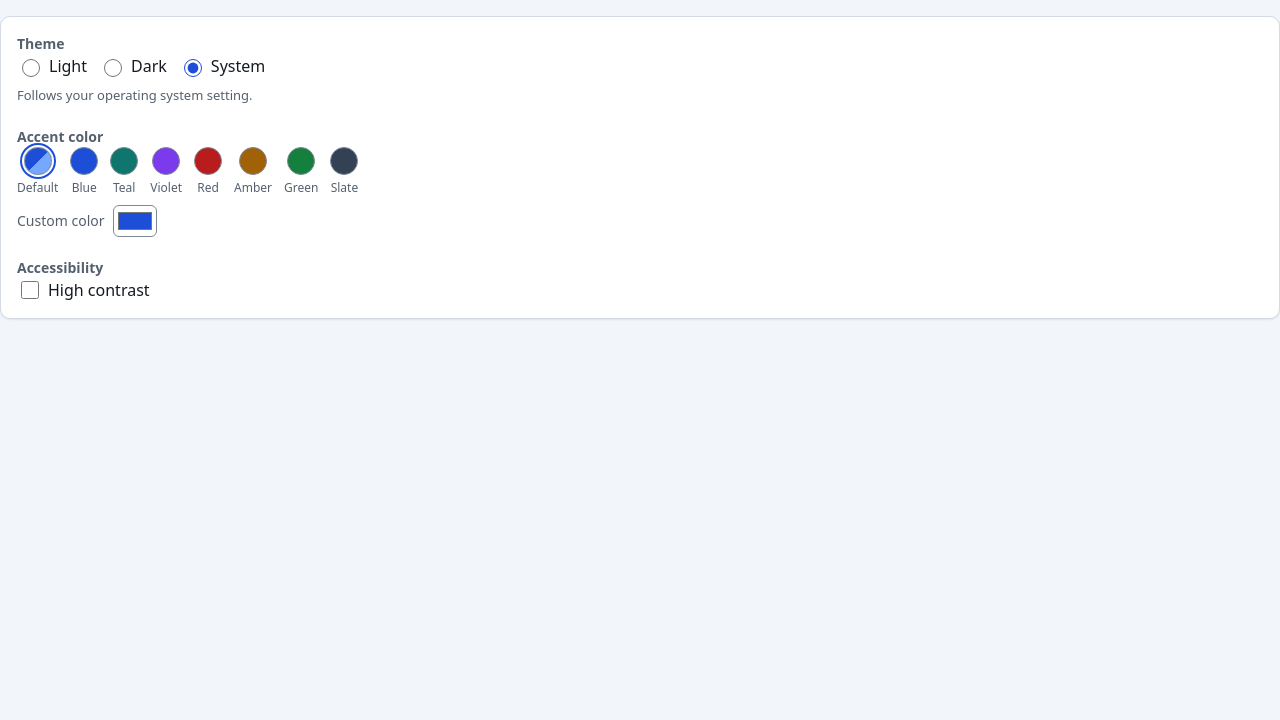
Test case: SettingsPanel › applies and stores the chosen theme straight away
The image size is (1280, 720).
What coordinates should you click on to do the following:
click the radio button labelled "Dark"
I would click on:
 (113, 68)
Its box is x1=104 y1=58 x2=122 y2=76.
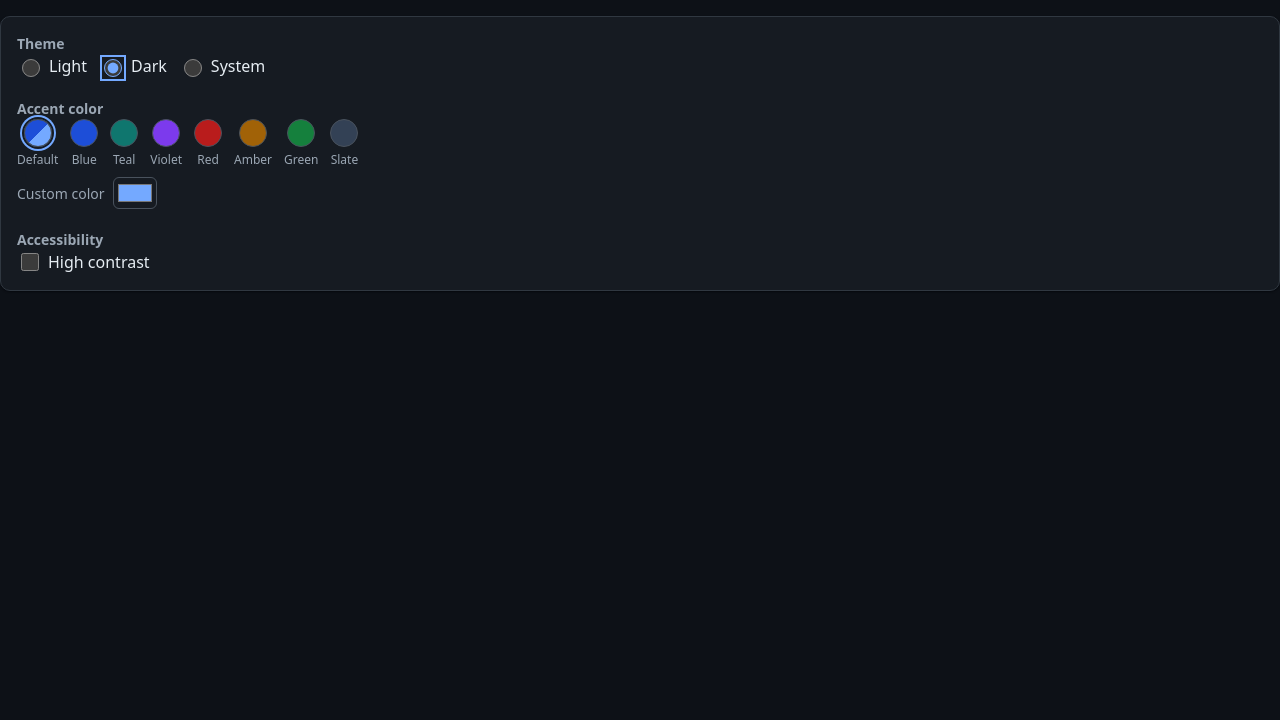
Check: the text "Follows your operating system setting." is gone
